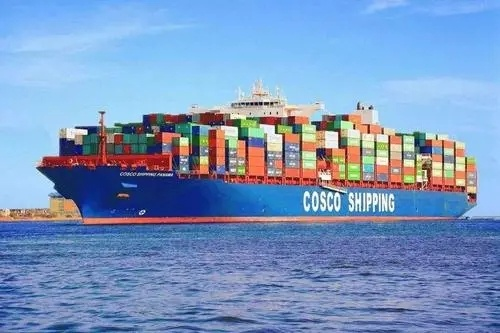Cargoship: (27, 80, 483, 222)
